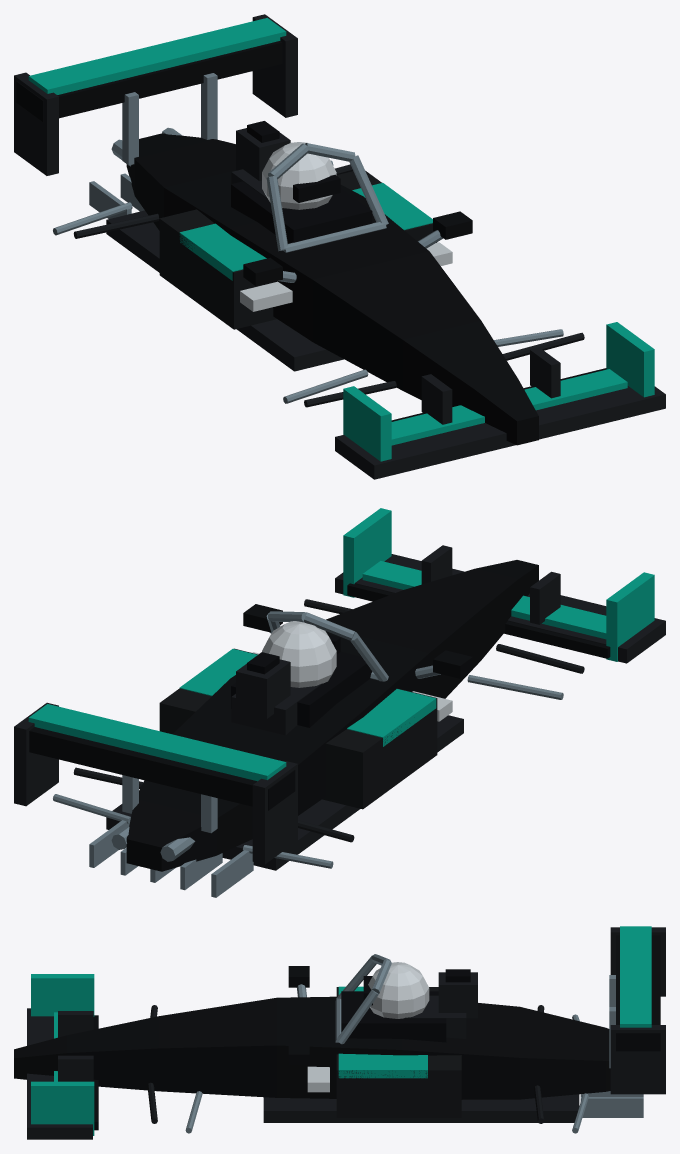
The model's file is Mercedes_AMG_F1_Inspired_Car.obj.
The picture shows the model from 3 angles, top to bottom: view 1: azimuth 30°, elevation 25°; view 2: azimuth 150°, elevation 25°; view 3: azimuth 270°, elevation 25°; orthographic projection. The views are drawn at different scales.
Visible parts, largest first — view 1: AMGBlack, Carbon, PetronasTeal, SilverMetal, AMGDark, Black, Silver; view 2: AMGBlack, Carbon, PetronasTeal, SilverMetal, AMGDark, Silver, Black; view 3: AMGBlack, Carbon, PetronasTeal, AMGDark, SilverMetal, Black, Silver.
Part boxes in pixels (box(x1,y1,x2,y2)): AMGBlack: box(16, 41, 606, 445); Carbon: box(14, 14, 665, 479); PetronasTeal: box(28, 18, 654, 461); SilverMetal: box(53, 73, 563, 403); AMGDark: box(159, 170, 436, 329); Black: box(231, 121, 372, 243); Silver: box(240, 142, 452, 311); AMGBlack: box(29, 560, 610, 871); Carbon: box(14, 545, 665, 870); PetronasTeal: box(28, 508, 654, 781); SilverMetal: box(53, 611, 563, 897); AMGDark: box(159, 648, 437, 809); Silver: box(252, 621, 452, 721); Black: box(231, 634, 372, 727); AMGBlack: box(14, 935, 660, 1130); Carbon: box(27, 927, 665, 1139); PetronasTeal: box(31, 926, 651, 1135); AMGDark: box(336, 987, 461, 1117); SilverMetal: box(185, 954, 643, 1133); Black: box(341, 969, 470, 1042); Silver: box(307, 962, 429, 1092).
Bounding box in the file's own units: 2.15 × 1.11 × 4.96.
